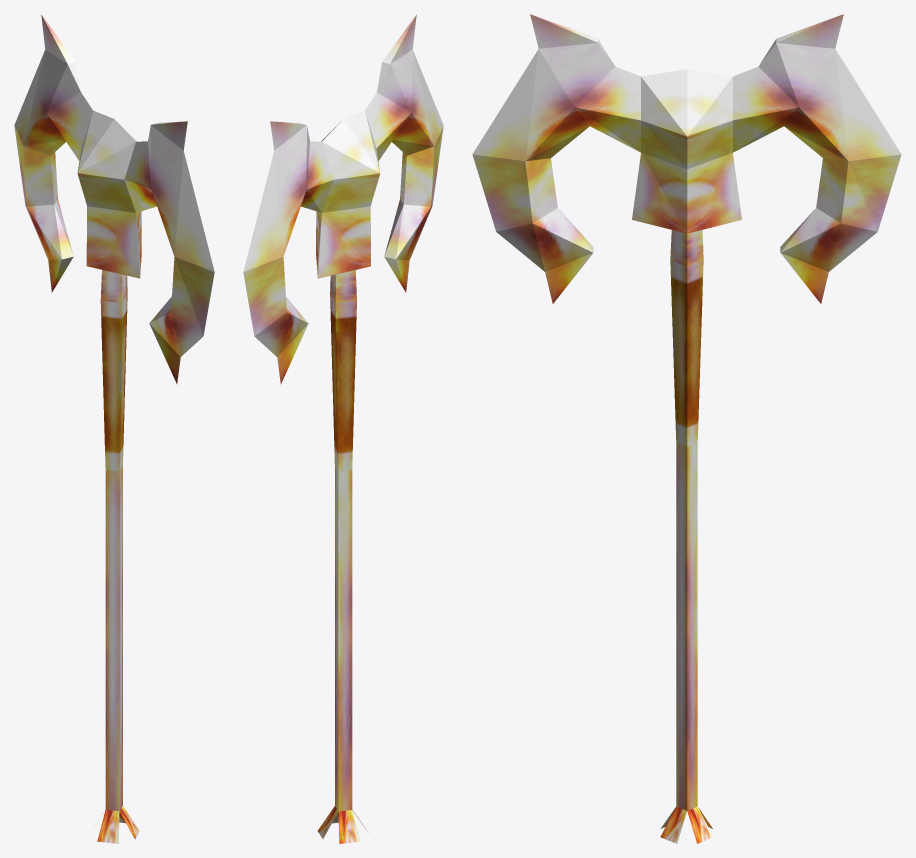
File: heavyaxeman04_3.obj
The picture shows the model from 3 angles, left to right: view 1: azimuth 30°, elevation 25°; view 2: azimuth 150°, elevation 25°; view 3: azimuth 270°, elevation 25°; orthographic projection. The views are drawn at different scales.
Parts seen in each view (by area): view 1: heavyaxeman04_3; view 2: heavyaxeman04_3; view 3: heavyaxeman04_3.
Part boxes in pixels (left/top/right/bottom): heavyaxeman04_3: left=14, top=14, right=214, bottom=843; heavyaxeman04_3: left=243, top=14, right=443, bottom=843; heavyaxeman04_3: left=472, top=14, right=901, bottom=843.
Size of the model in its own units: 0.2487 by 2.47 by 1.17.
